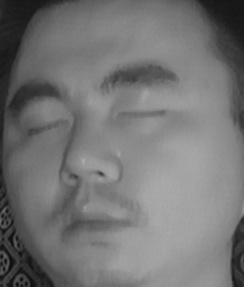blink: (112, 95, 169, 134), (21, 108, 71, 141)
mouth: (48, 192, 137, 250)
